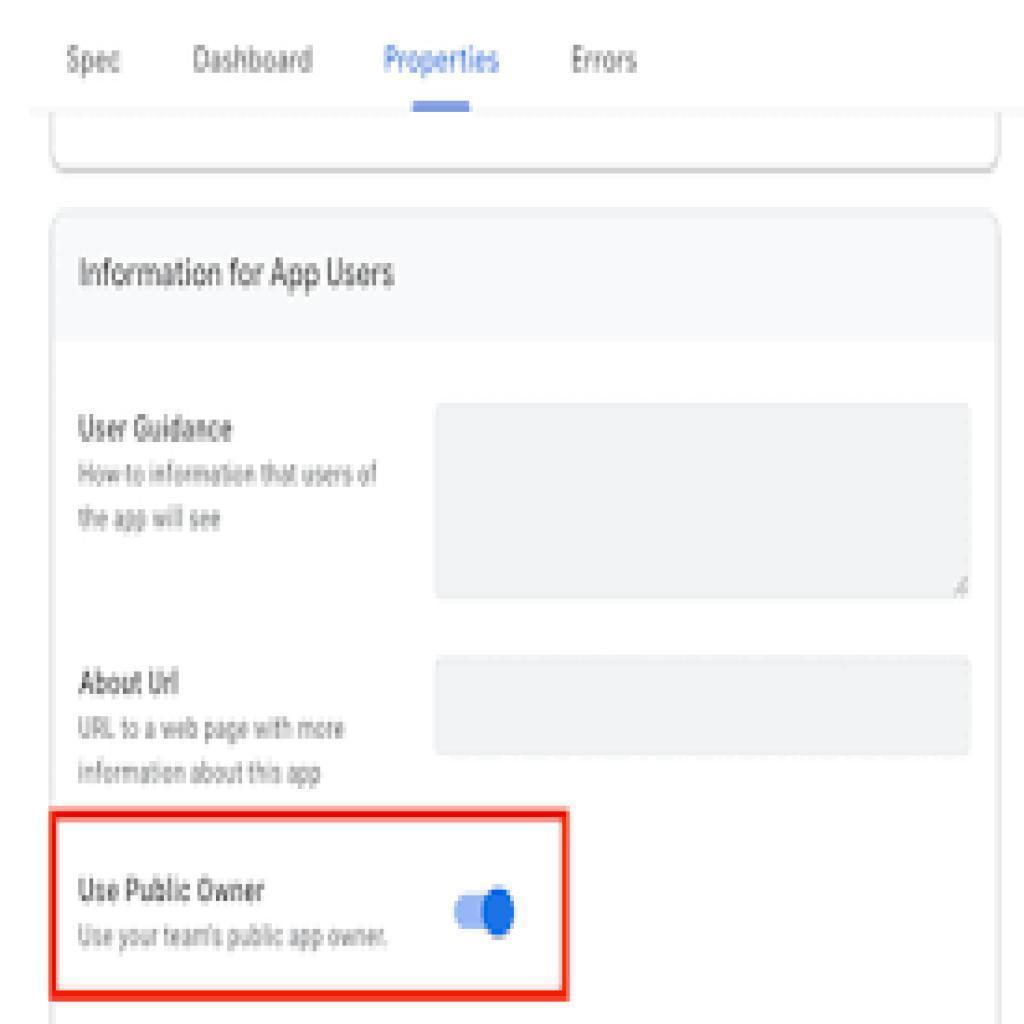input: (433, 651, 971, 757)
label: (73, 251, 411, 299), (70, 874, 277, 908), (187, 39, 323, 80), (376, 37, 507, 76), (77, 664, 190, 700), (563, 40, 645, 79), (63, 39, 129, 82)
switch: (453, 883, 517, 942)
